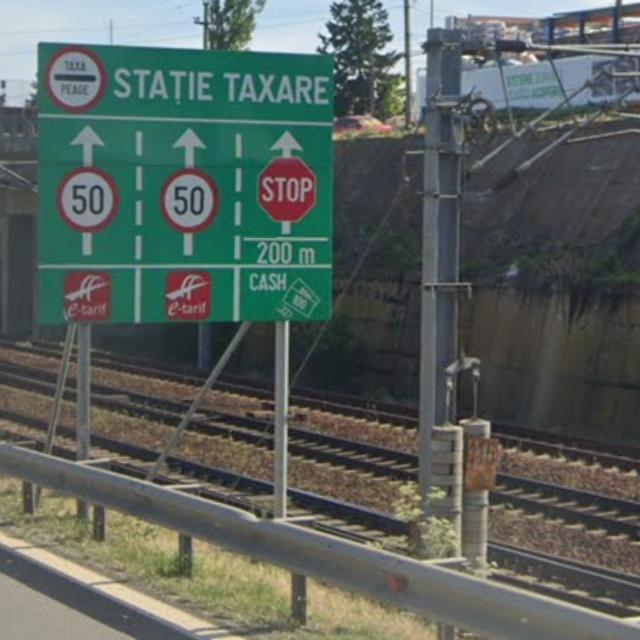forb_speed_over_50: (55, 167, 119, 234), (160, 168, 219, 233)
prio_stop: (258, 157, 318, 222)
